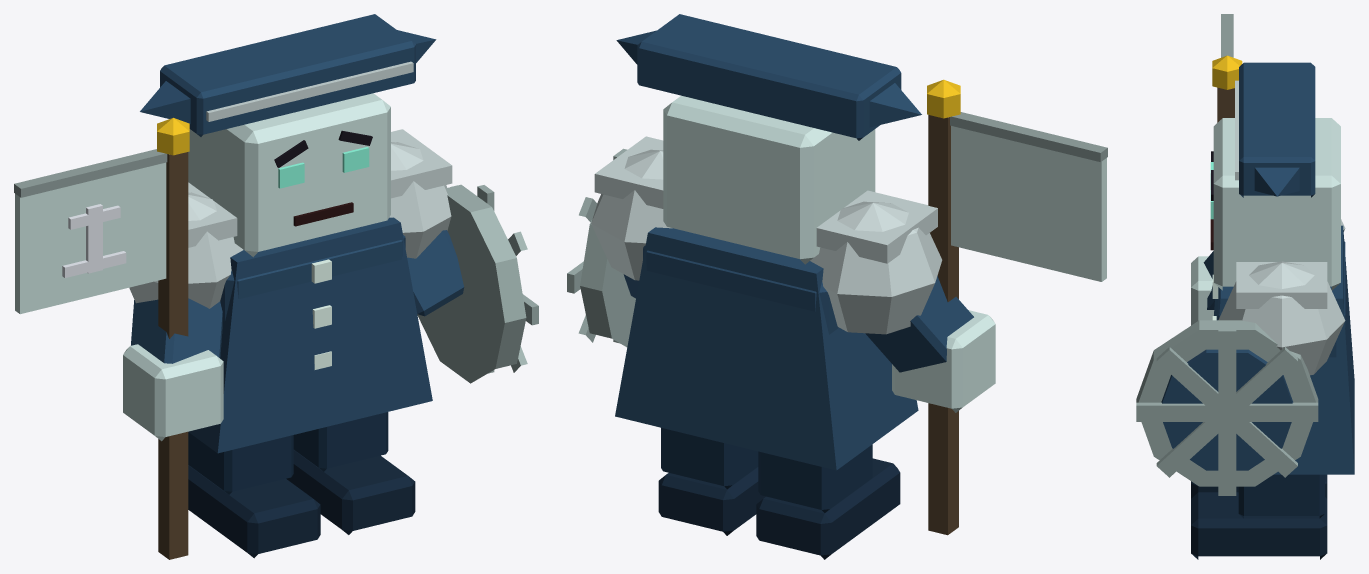
The model's file is r14_mini_phantom_admiral.glb.
3 renders of one model, left to right at view 1: azimuth 30°, elevation 25°; view 2: azimuth 150°, elevation 25°; view 3: azimuth 270°, elevation 25°, orthographic. The views are drawn at different scales.
Parts seen in each view (by area): view 1: r14_mini_phantom_admiral_mesh; view 2: r14_mini_phantom_admiral_mesh; view 3: r14_mini_phantom_admiral_mesh.
Part boxes in pixels (x1,y1,x2,y2): r14_mini_phantom_admiral_mesh: (14,14,538,559); r14_mini_phantom_admiral_mesh: (567,14,1107,559); r14_mini_phantom_admiral_mesh: (1136,14,1354,559).
Size of the model in its own units: 4.99 by 4.6 by 2.19.
1 material, 1 textured.
